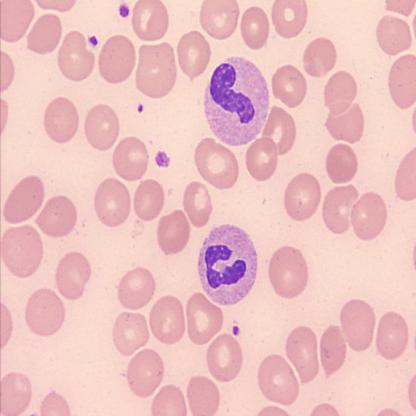Band Neutrophil: (202, 51, 270, 150), (196, 221, 258, 308)
